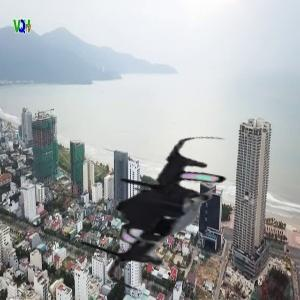drone: (70, 121, 249, 300)
